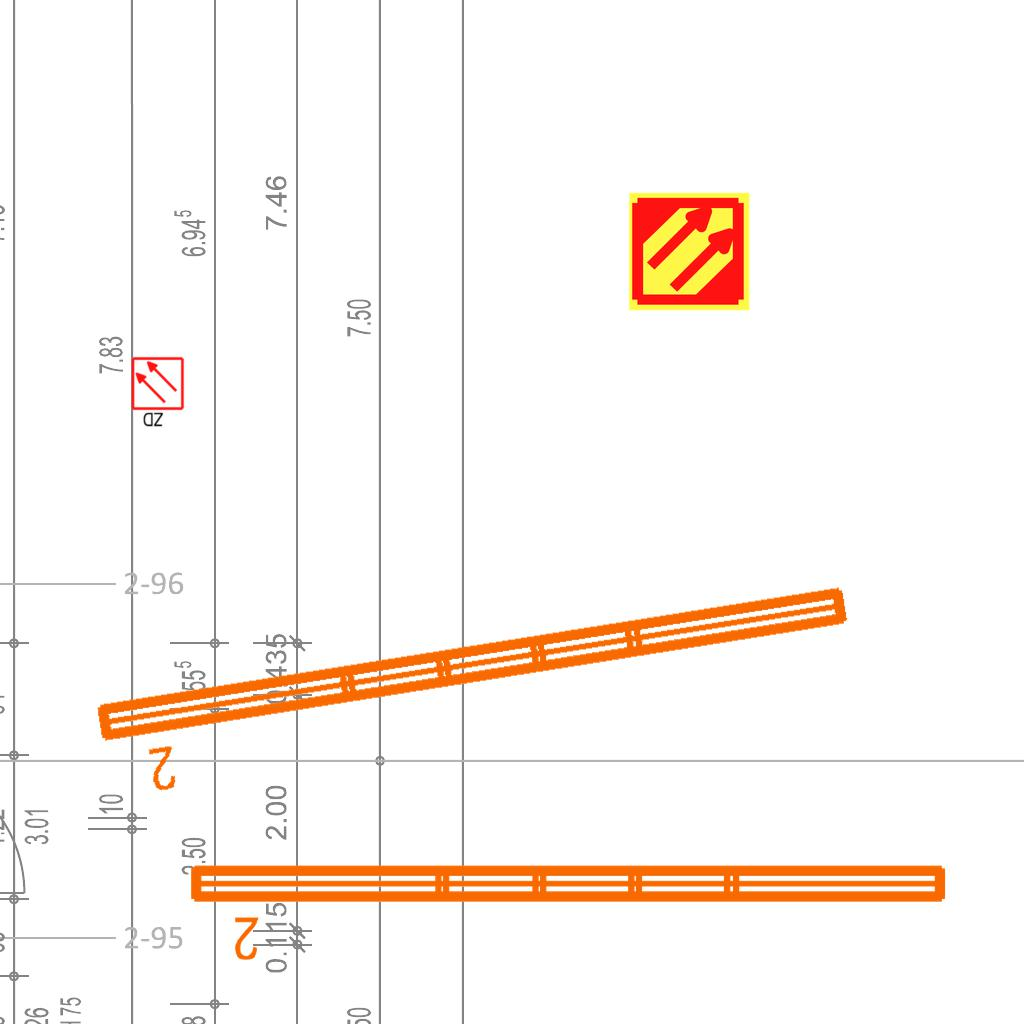ASR_Ansaugrauchmelder: (627, 189, 752, 314)
Ambulanz_Pendelleuchte_LED: (86, 573, 868, 805), (182, 853, 956, 965)
ZD_Melder_in_Zwischendecke_mit_Revisionsoeffnung_mind_40_x_40_cm: (130, 356, 187, 430)
